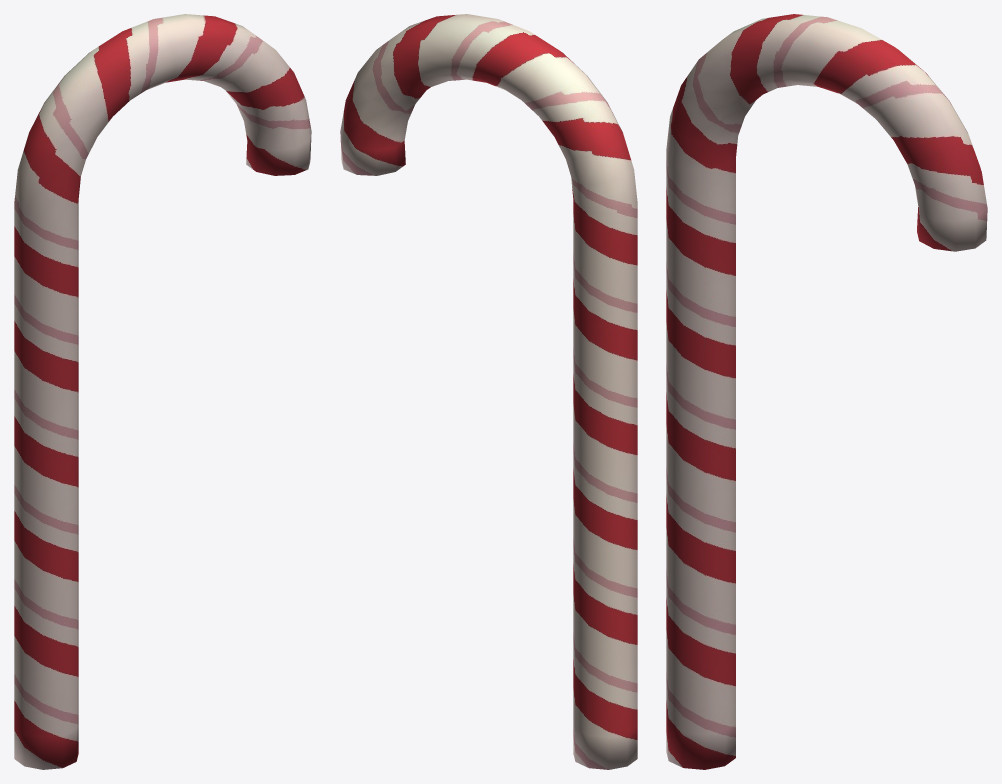
Rendered from candy_cane.glb.
3 views of the same model, side by side, from view 1: azimuth 30°, elevation 25°; view 2: azimuth 150°, elevation 25°; view 3: azimuth 330°, elevation 25° (orthographic). The views are drawn at different scales.
Parts seen in each view (by area): view 1: Cane; view 2: Cane; view 3: Cane.
Boxes of the visible parts, <box> form: Cane: <box>14,14,311,769</box>; Cane: <box>340,14,637,769</box>; Cane: <box>666,14,987,769</box>.
Bounding box in the file's own units: 0.2216 × 0.5209 × 0.044.
Materials: 1 (1 with a texture image).
